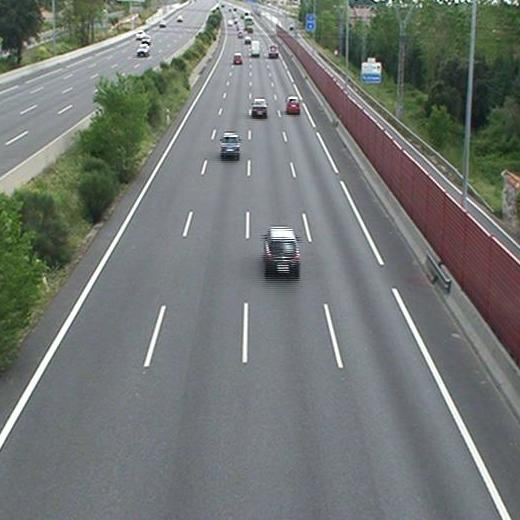car: (263, 229, 299, 269), (221, 134, 240, 153), (251, 98, 266, 115), (287, 97, 300, 113), (233, 53, 242, 64)
small-truck: (269, 43, 279, 56)
van: (250, 40, 261, 55)
